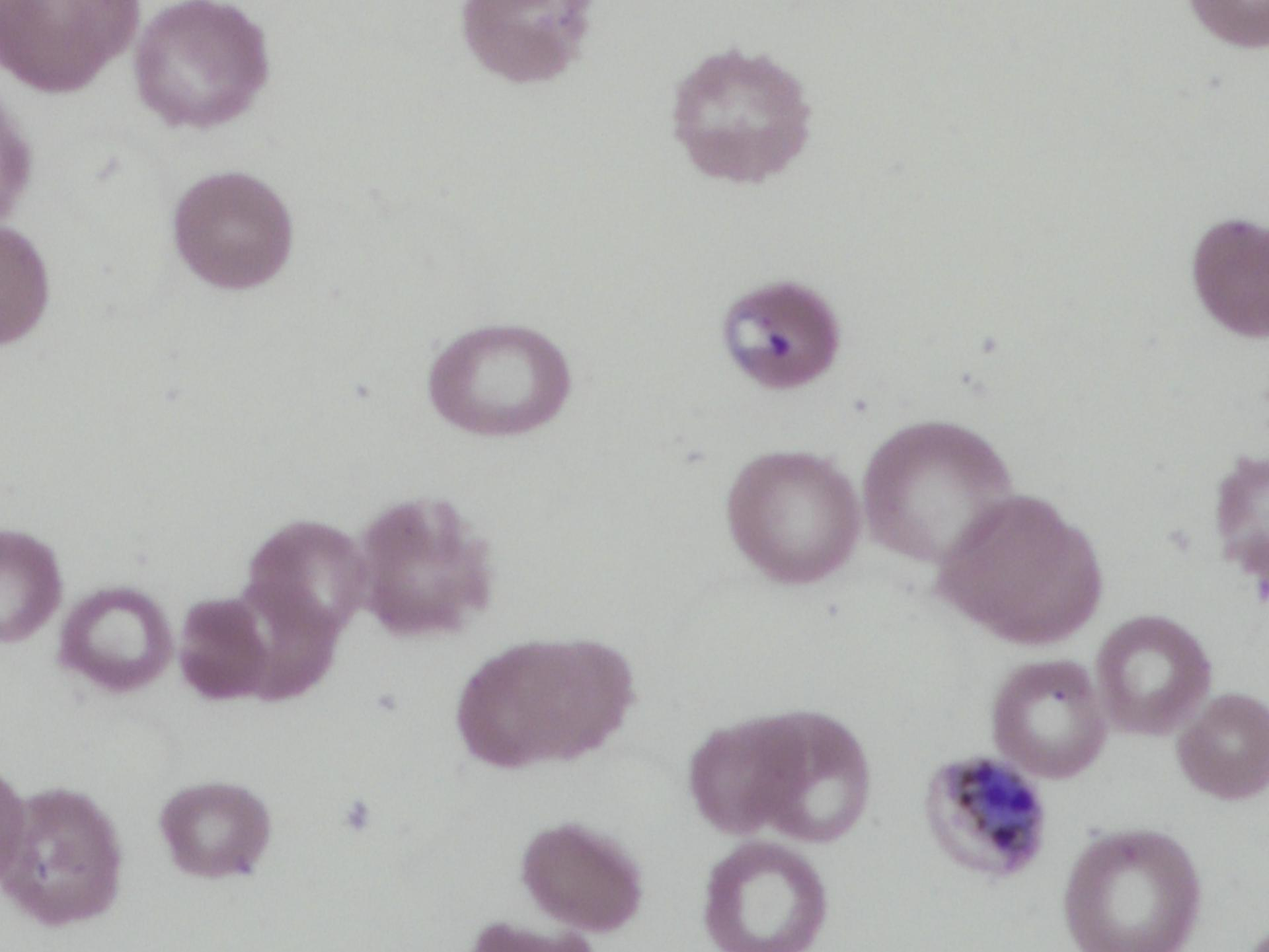Infected: (930, 756, 1047, 881)
Uninfected: (859, 421, 1005, 570), (359, 496, 498, 636), (672, 49, 811, 187), (1055, 822, 1193, 952), (137, 3, 269, 126), (463, 637, 592, 761), (683, 716, 814, 833), (978, 525, 1112, 639), (1088, 611, 1207, 738), (430, 329, 571, 436), (939, 490, 1060, 613), (987, 655, 1104, 776), (736, 463, 853, 583), (522, 813, 639, 933), (220, 573, 328, 701), (0, 0, 137, 100), (172, 175, 286, 295), (7, 796, 115, 921), (709, 840, 827, 952), (152, 778, 269, 887), (449, 0, 590, 90), (247, 527, 354, 641), (59, 589, 169, 699), (533, 633, 627, 761), (729, 285, 839, 391), (773, 712, 867, 836), (1190, 214, 1269, 348), (176, 593, 266, 702), (1172, 686, 1269, 787)
